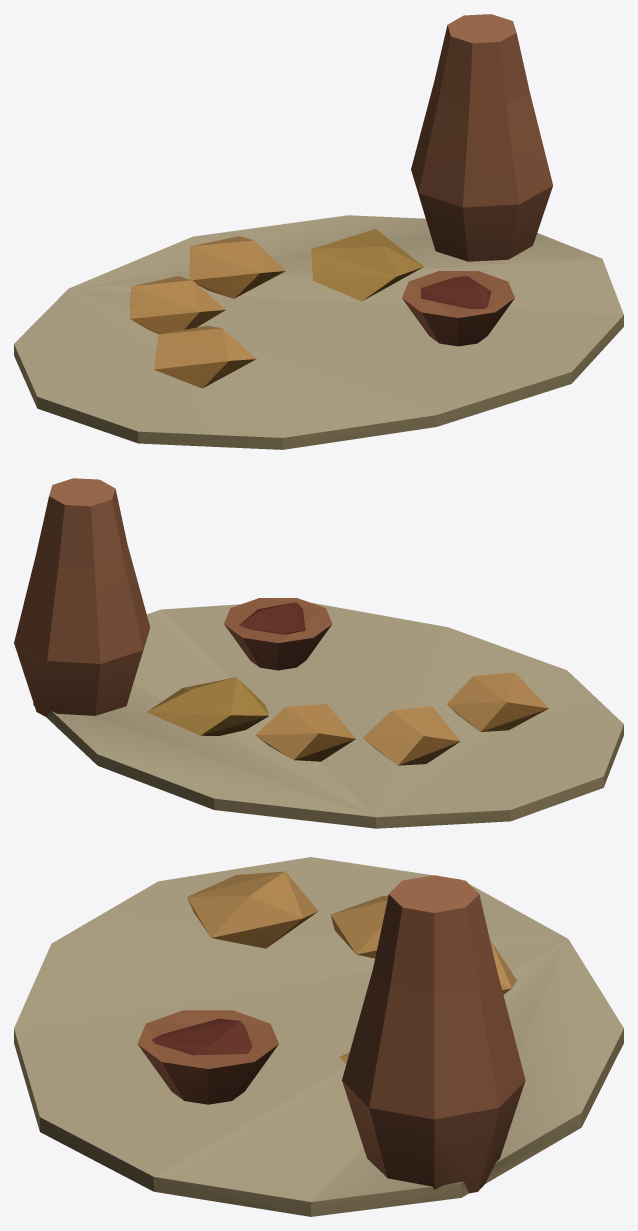
Rendered from meal.glb.
The picture shows the model from 3 angles, top to bottom: view 1: azimuth 30°, elevation 25°; view 2: azimuth 150°, elevation 25°; view 3: azimuth 270°, elevation 25°; orthographic projection. The views are drawn at different scales.
Parts seen in each view (by area): view 1: base; view 2: base; view 3: base.
Boxes of the visible parts, <box> form: base: <box>14,14,623,449</box>; base: <box>14,478,623,828</box>; base: <box>14,857,623,1216</box>.
Bounding box in the file's own units: 0.3973 × 0.15 × 0.2968.
